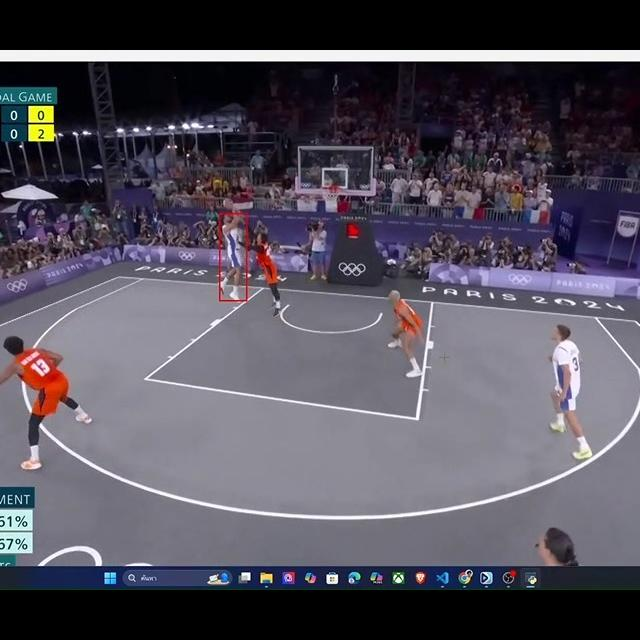basketball: (221, 197, 235, 210)
hoop: (319, 185, 343, 210)
